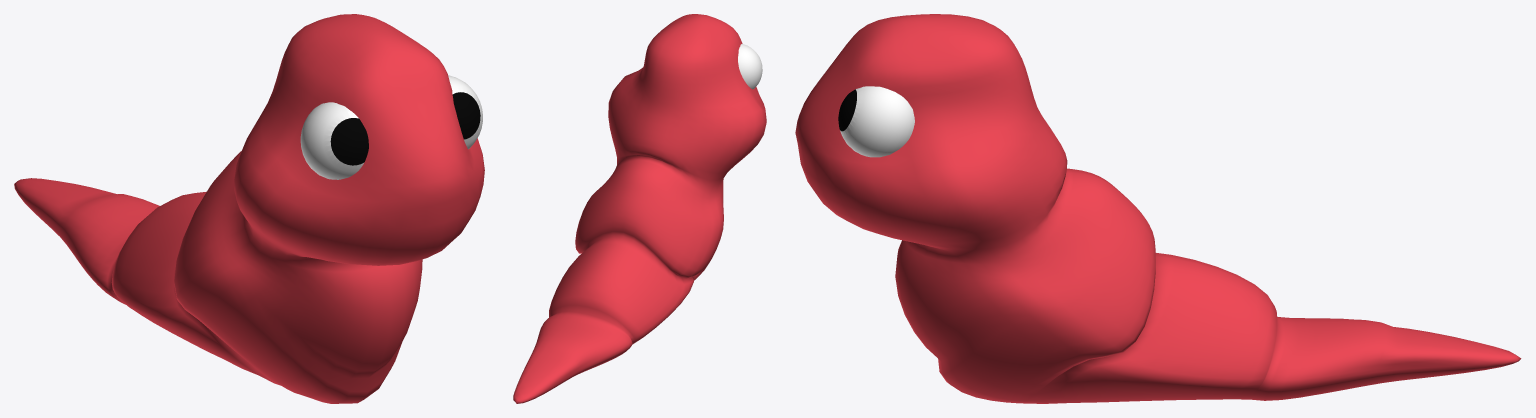
File: pinkwormo.fbx
3 views of the same model, side by side, from view 1: azimuth 30°, elevation 25°; view 2: azimuth 150°, elevation 25°; view 3: azimuth 270°, elevation 25° (orthographic). The views are drawn at different scales.
Visible parts, largest first — view 1: Forme02, Sphère02, Sphère03; view 2: Forme02, Sphère02; view 3: Forme02, Sphère03.
Boxes of the visible parts, bbox=[...] form: Forme02: bbox=[14, 14, 484, 403]; Sphère02: bbox=[300, 102, 368, 179]; Sphère03: bbox=[448, 75, 482, 149]; Forme02: bbox=[513, 14, 766, 403]; Sphère02: bbox=[738, 44, 762, 89]; Forme02: bbox=[795, 14, 1521, 403]; Sphère03: bbox=[838, 86, 914, 157].
Bounding box in the file's own units: 10.46 × 17.53 × 30.37.
